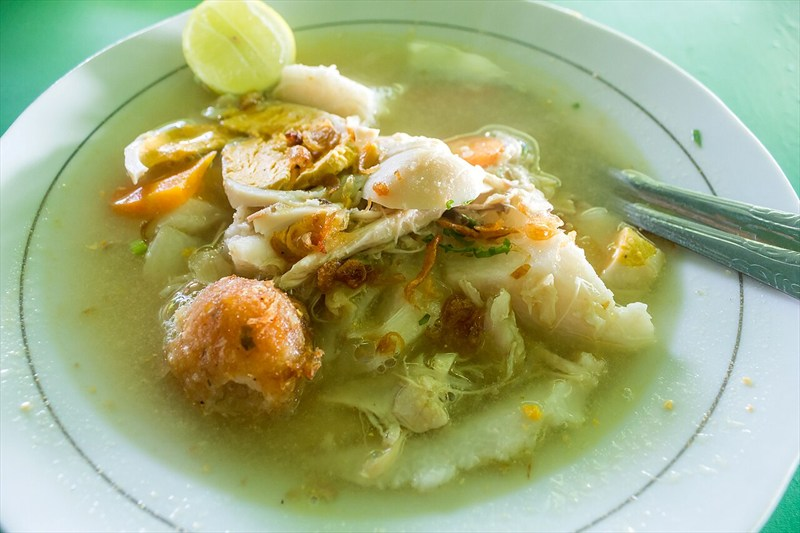Soto Ayam: (127, 106, 623, 436)
